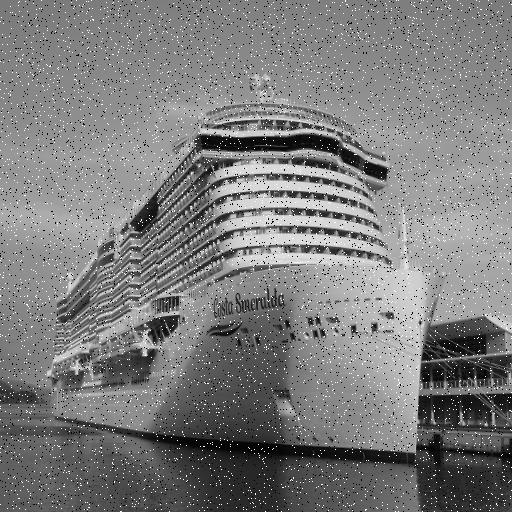cruises: (45, 68, 451, 475)
